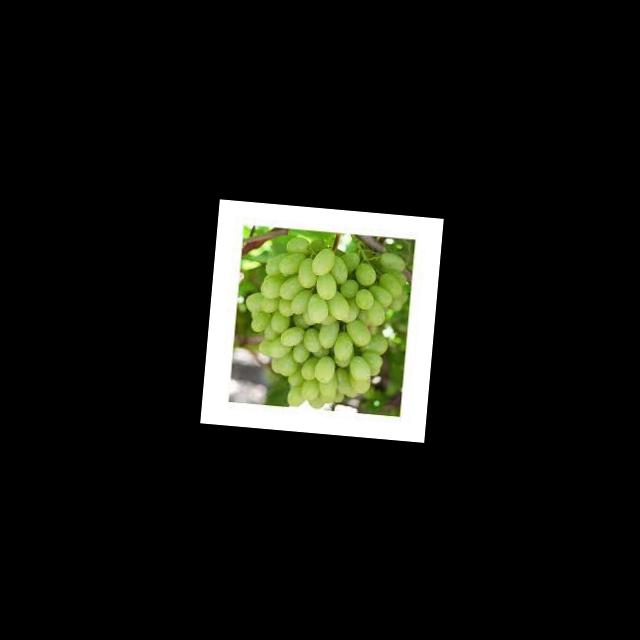grape: (234, 224, 412, 415)
